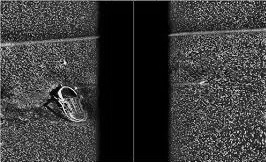ship: (55, 85, 87, 124)
